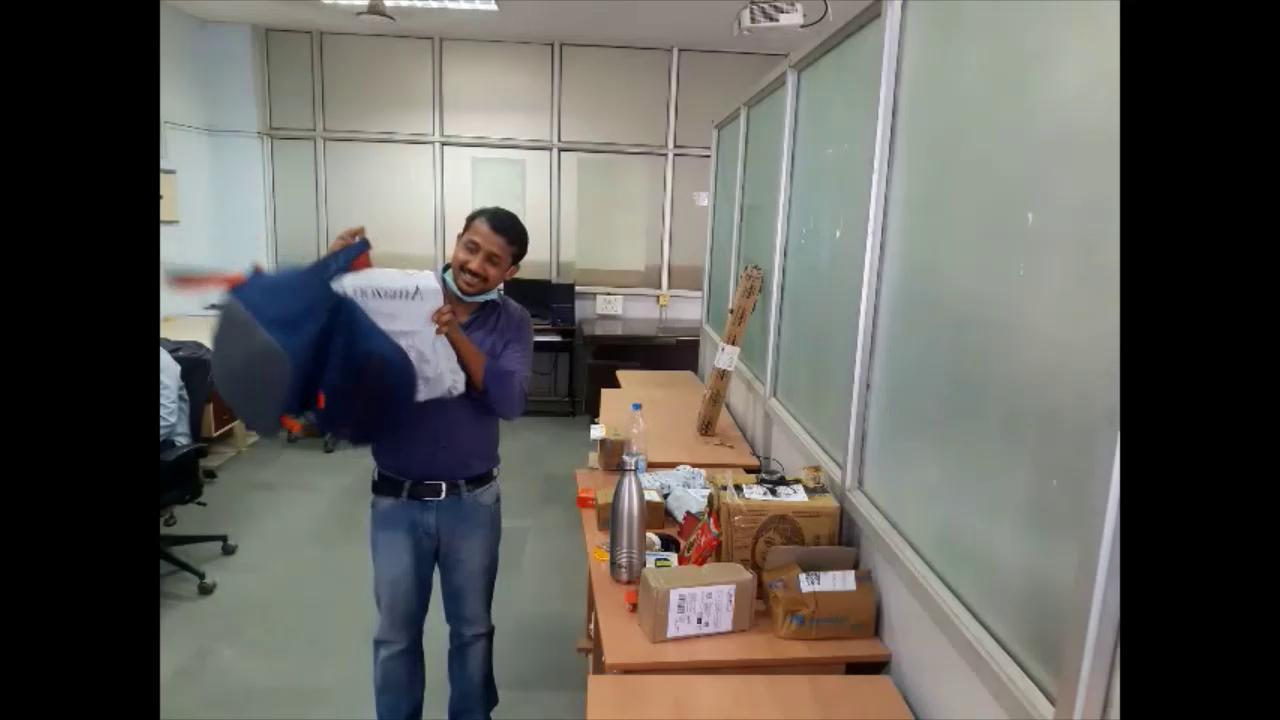shoplifting: (189, 209, 545, 720)
